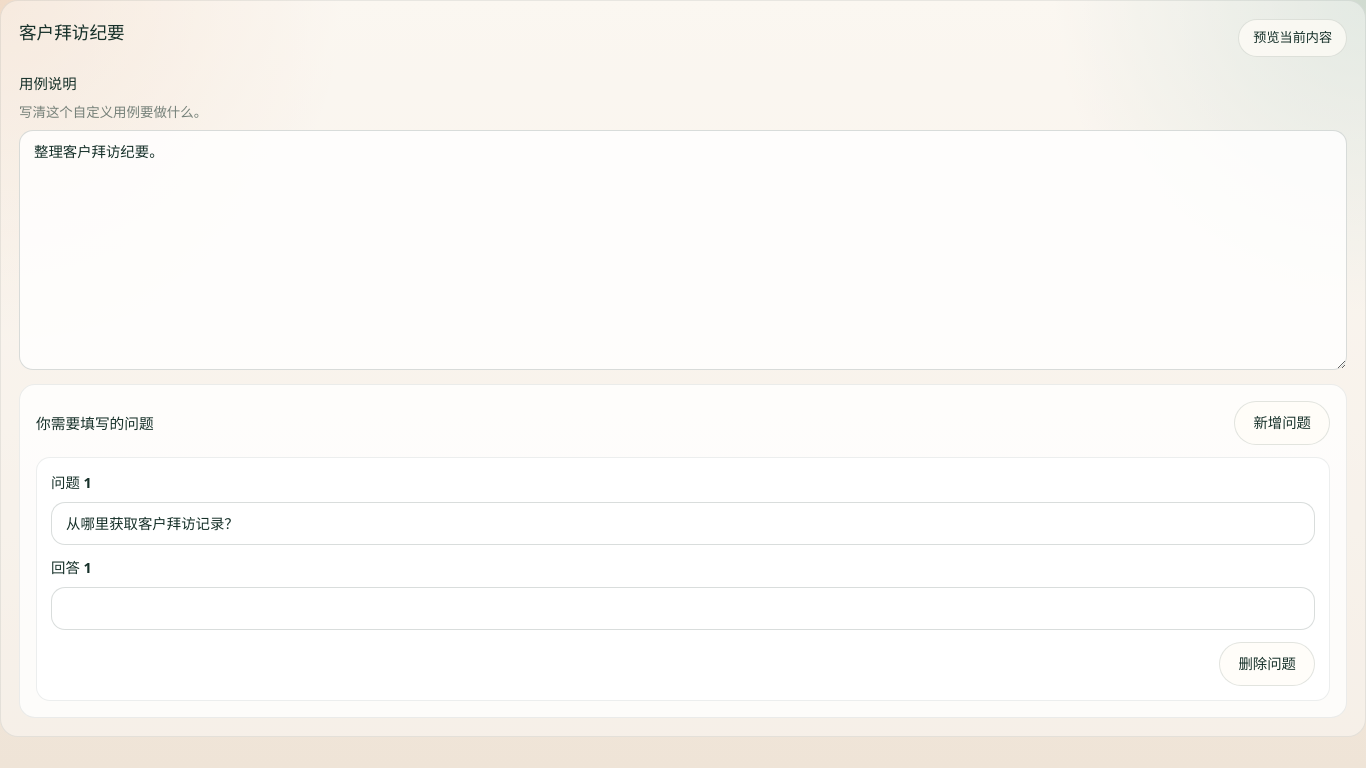
Scenario: UseCaseConfigStep › previews the latest unsaved content for custom use cases without exposing editing controls
The image size is (1366, 768).
Replace the text in the text box labelled "用例说明" with "整理本周客户拜访纪要，并补充后续跟进行动。" at [683, 250], box [19,130,1347,370]
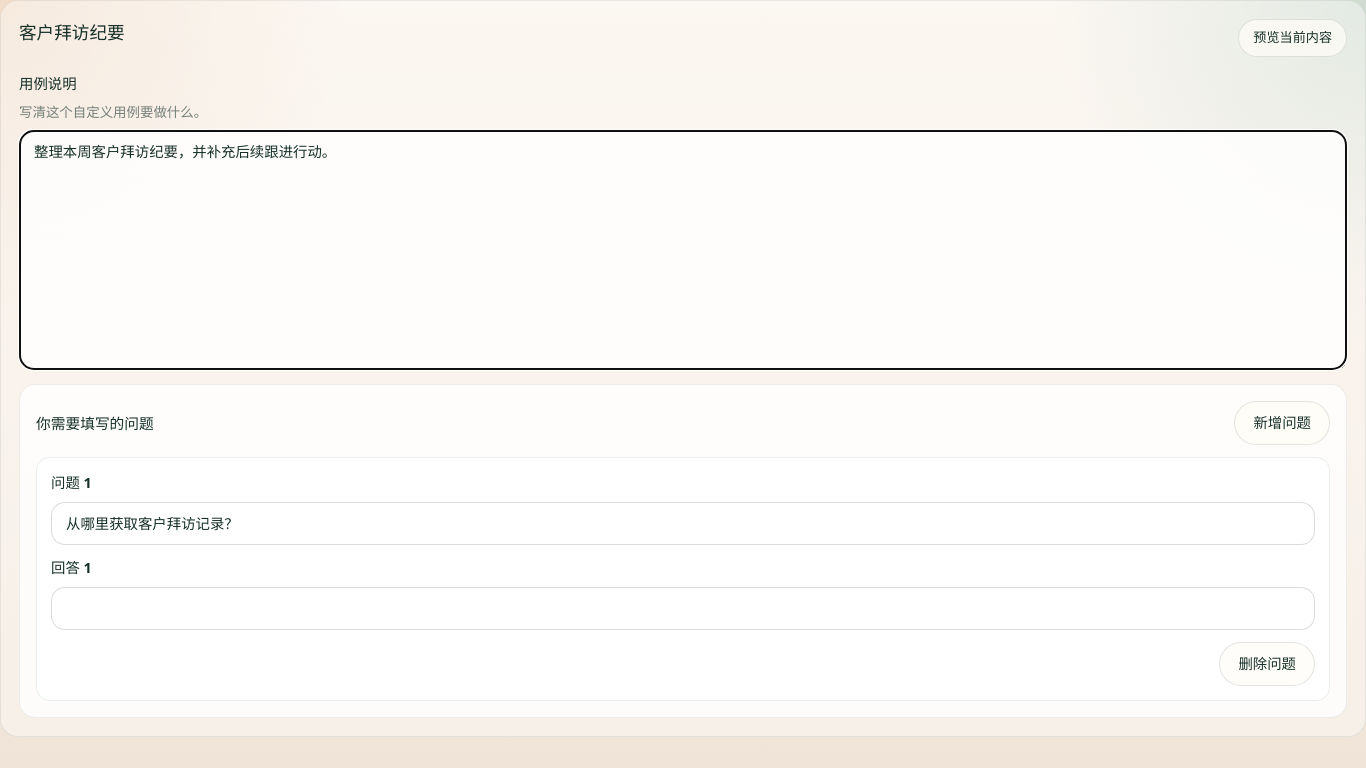
Type "https://wiki.company.com/customer-visits" into the field labelled "回答 1" at [683, 609], box [51,587,1315,630]
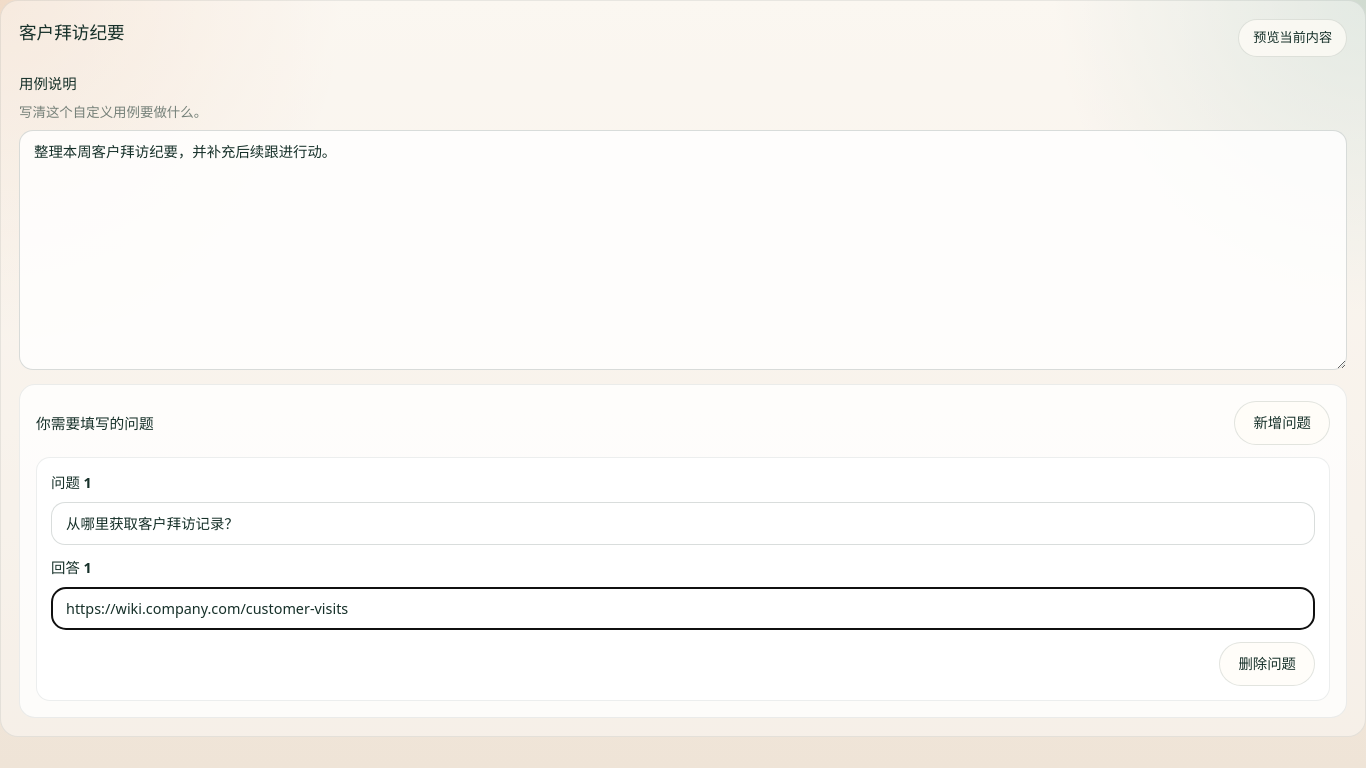
Click the button "预览当前内容" at [1293, 38], box [1238,19,1347,57]
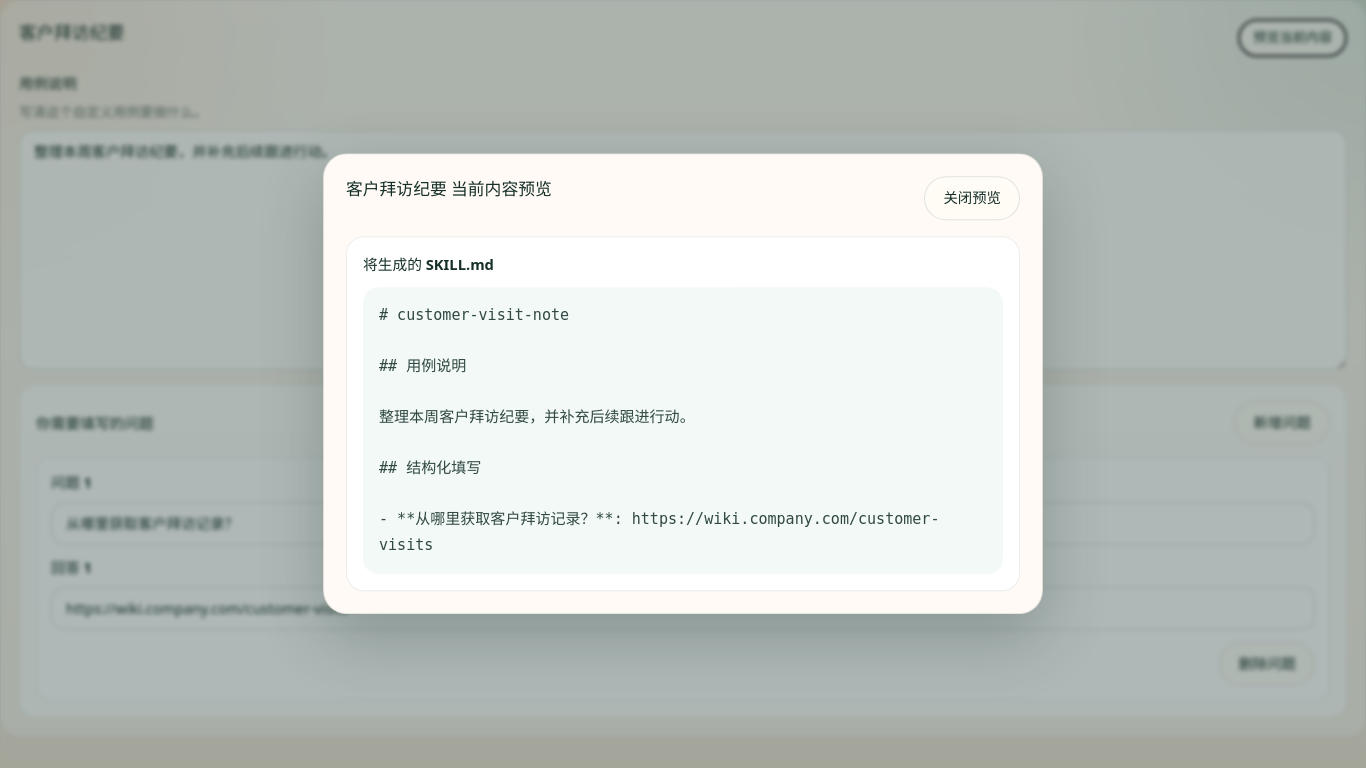
expect the dialog "客户拜访纪要 当前内容预览" shows "# customer-visit-note": met, box [379,306,940,554]
expect the dialog "客户拜访纪要 当前内容预览" shows "## 用例说明": met, box [379,306,940,554]
expect the dialog "客户拜访纪要 当前内容预览" shows "整理本周客户拜访纪要，并补充后续跟进行动。": met, box [379,306,940,554]
